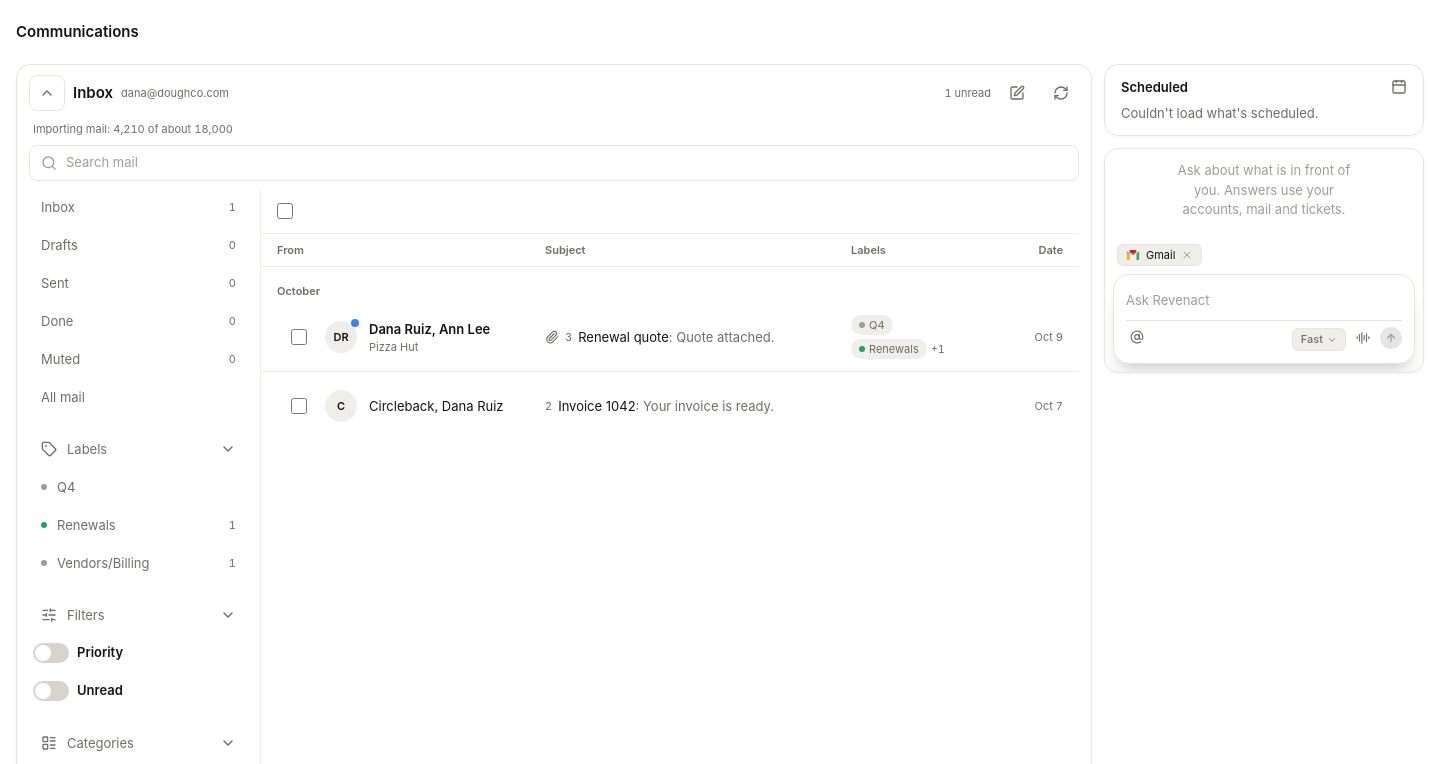
Test: The Drafts folder (two-way Gmail D3) › a bulk discard the server refuses (404, all or nothing) puts the rows back and shows the server words
Step 1. Click the button "Drafts 0" → [138, 245], box 29,227 -> 248,263
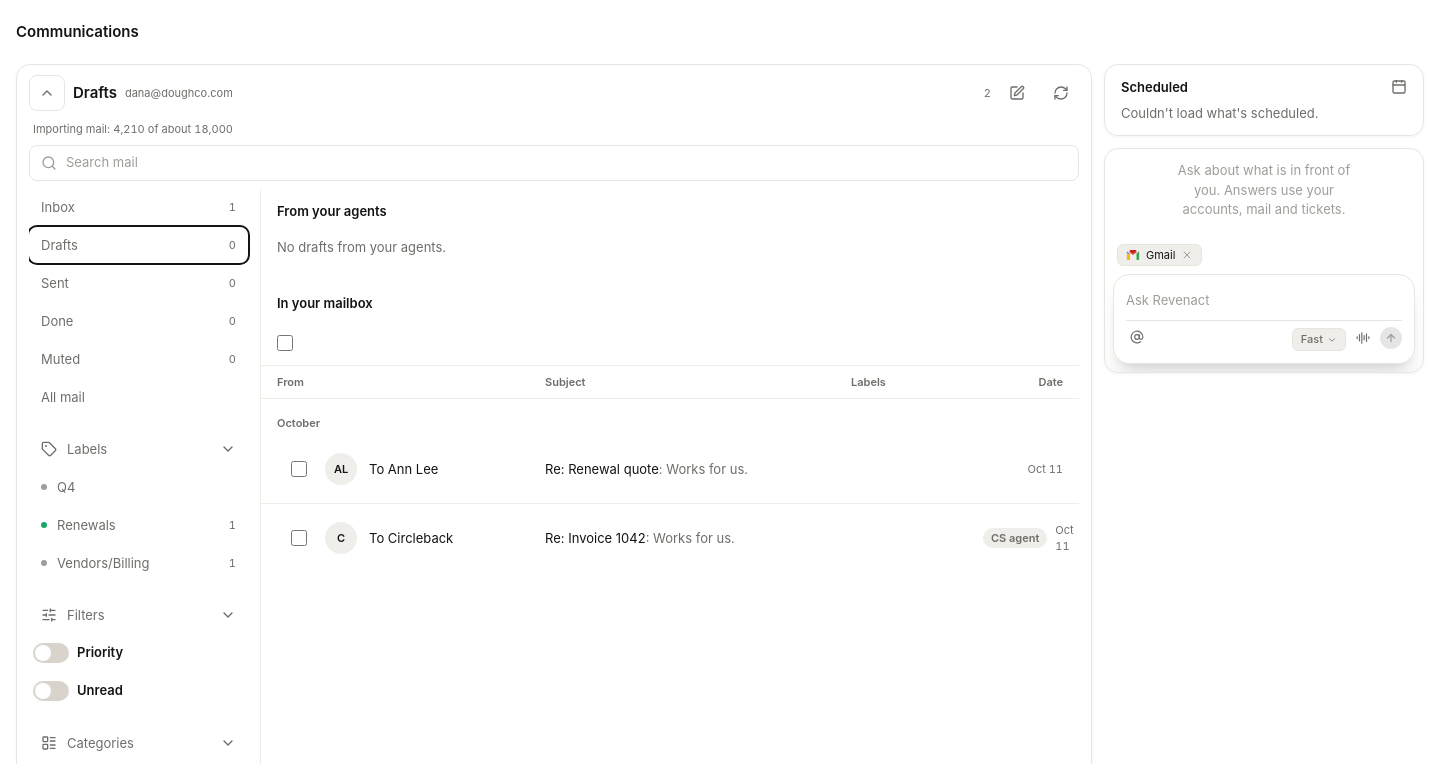
Now the button "To Ann Lee" is shown, box 369,459 -> 533,479
Step 2. Click the checkbox named "Select To Ann Lee" → [299, 469], box 291,461 -> 307,477
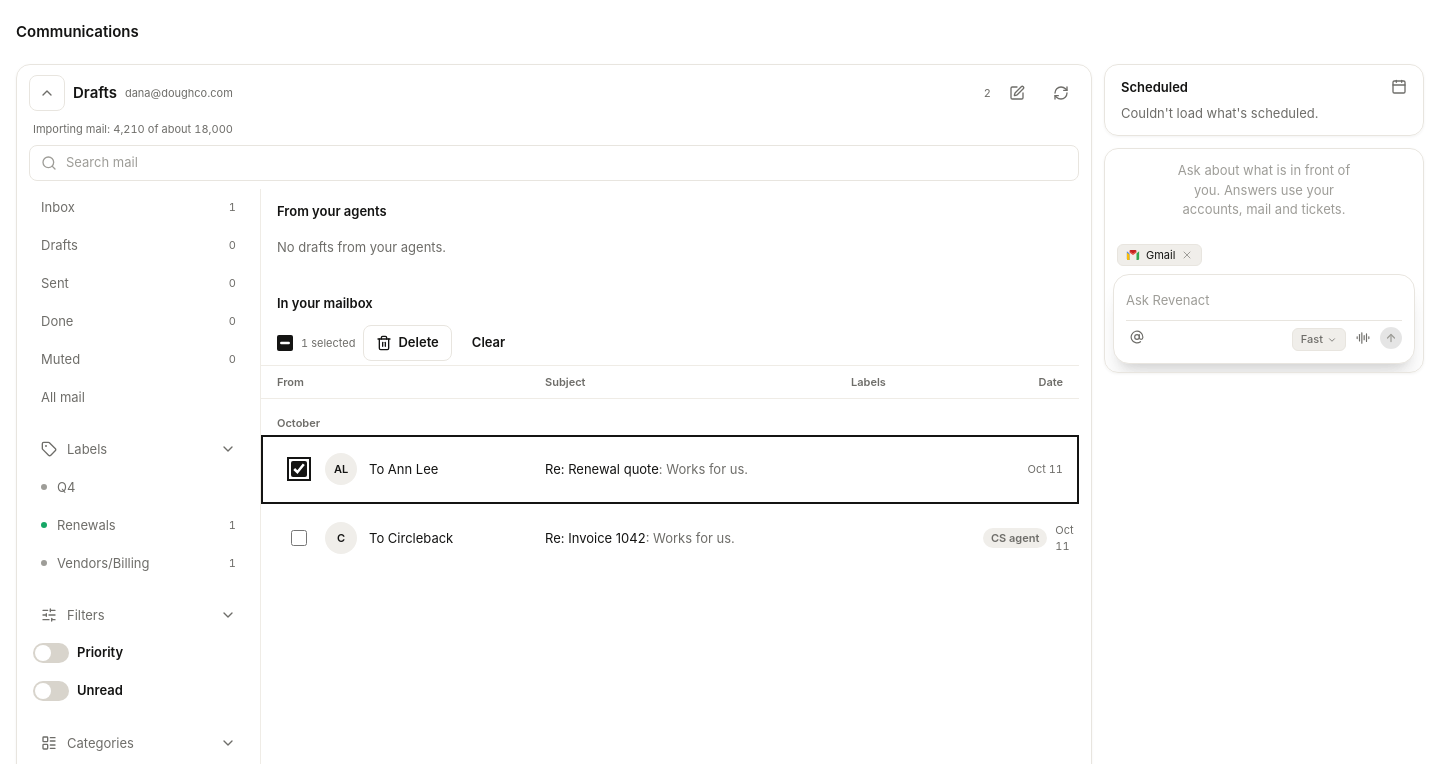
Step 3. Click the checkbox named "Select To Circleback" → [299, 538], box 291,530 -> 307,546
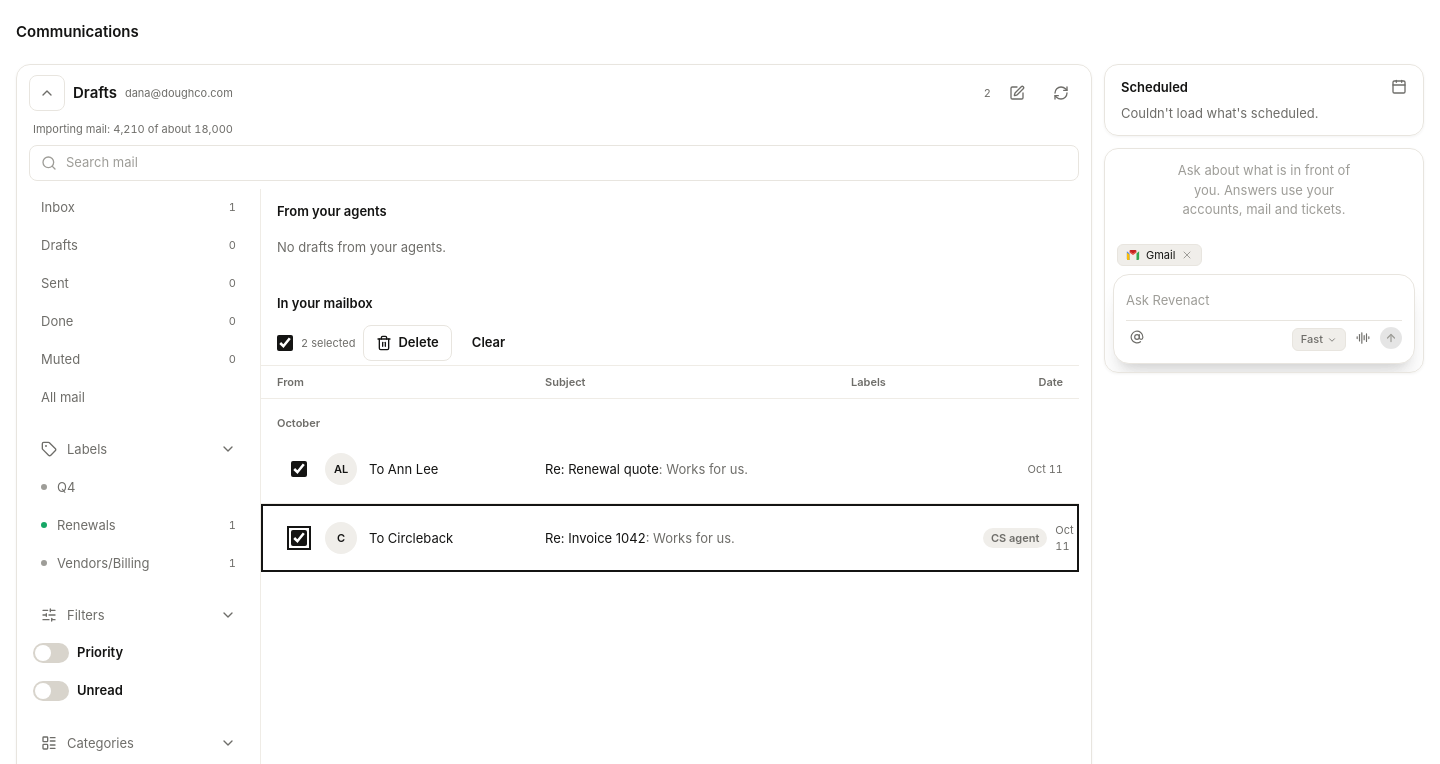
Step 4. Click the button "Delete" → [408, 343], box 364,325 -> 452,361
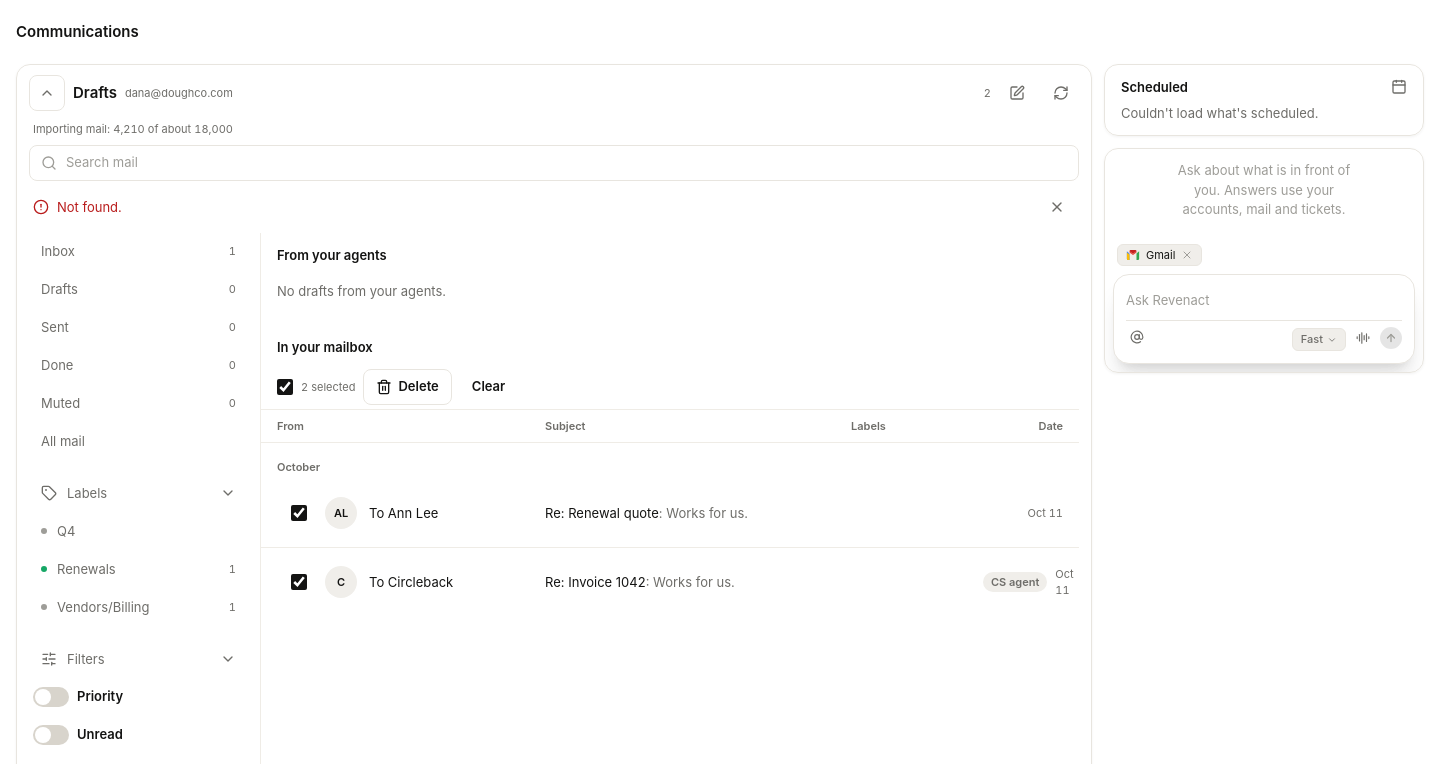
Now the button "To Ann Lee" is shown, box 369,503 -> 533,523
Now the button "To Circleback" is shown, box 369,572 -> 533,592
Now the message "Not found." is shown, box 33,189 -> 1075,225
